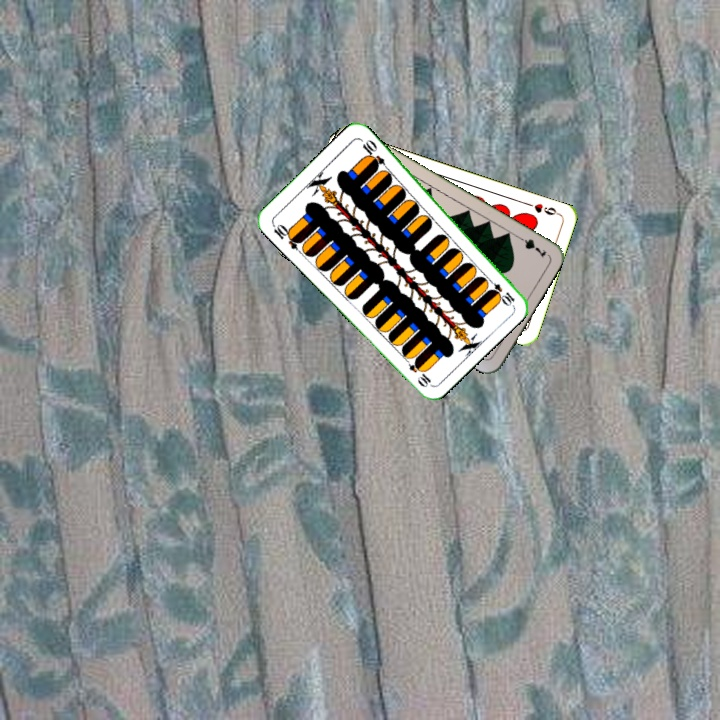E10: (269, 220, 304, 252), (484, 274, 517, 307)
G7: (512, 231, 550, 261)
H9: (522, 199, 562, 218)
